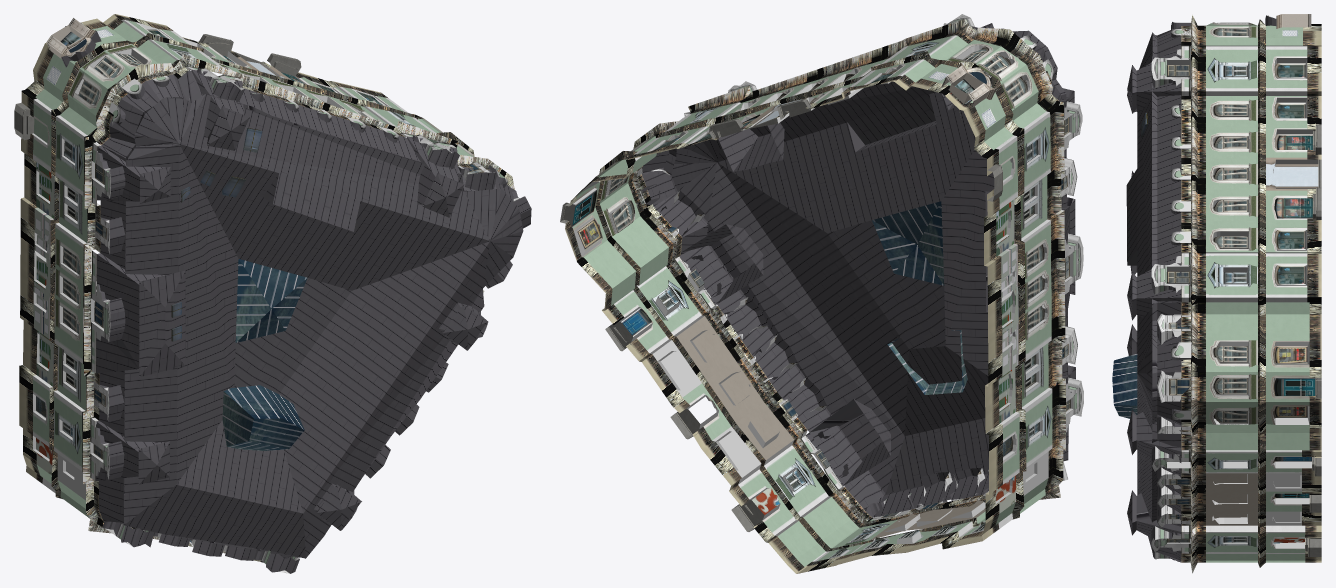
File: Parnu12-origo.obj
The picture shows the model from 3 angles, left to right: view 1: azimuth 30°, elevation 25°; view 2: azimuth 150°, elevation 25°; view 3: azimuth 270°, elevation 25°; orthographic projection. The views are drawn at different scales.
Parts seen in each view (by area): view 1: Parnu12; view 2: Parnu12; view 3: Parnu12.
Boxes of the visible parts, <box> form: Parnu12: <box>14,14,531,573</box>; Parnu12: <box>560,14,1083,573</box>; Parnu12: <box>1112,14,1321,573</box>.
Size of the model in its own units: 38.19 by 45 by 17.26.
